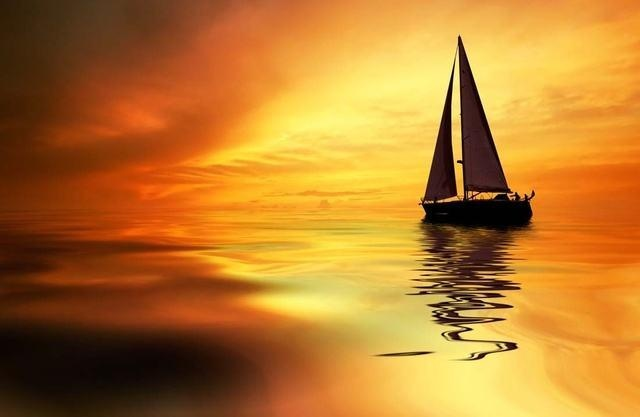fanchuan: (416, 35, 547, 228)
